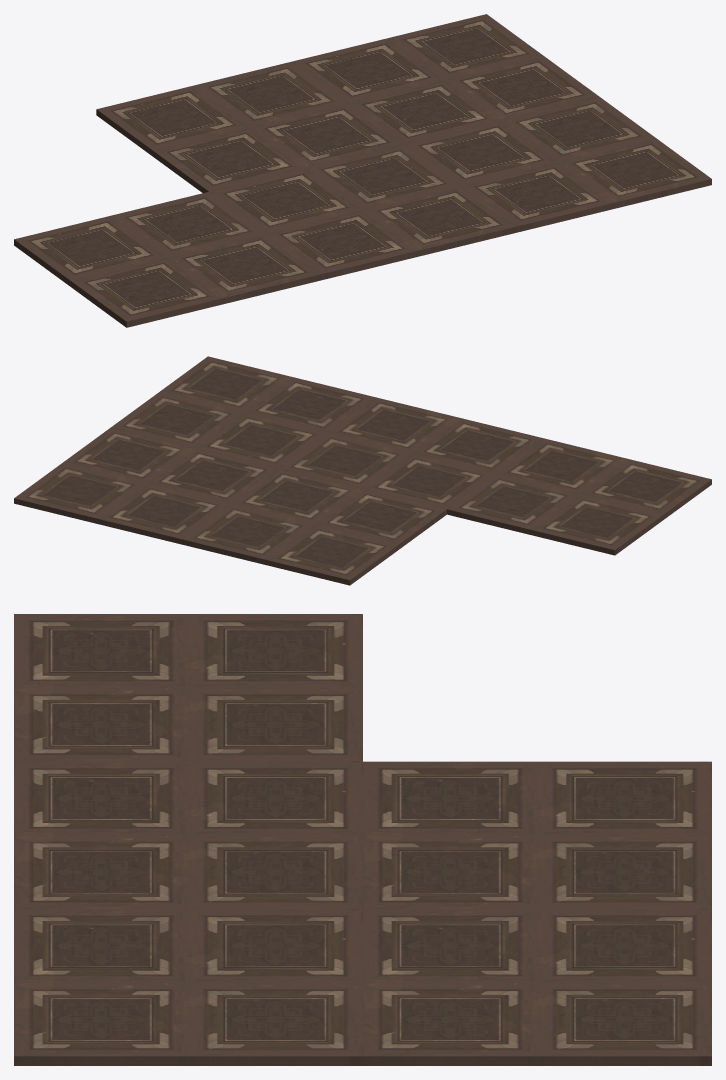
The model's file is Homeworld_Interior_Ly_Room_G_Ceiling_01_Vo.fbx.
The picture shows the model from 3 angles, top to bottom: view 1: azimuth 30°, elevation 25°; view 2: azimuth 150°, elevation 25°; view 3: azimuth 270°, elevation 25°; orthographic projection. The views are drawn at different scales.
Visible parts, largest first — view 1: Homeworld_Interior_Ly_Room_G_Ceiling_01_Vo; view 2: Homeworld_Interior_Ly_Room_G_Ceiling_01_Vo; view 3: Homeworld_Interior_Ly_Room_G_Ceiling_01_Vo.
Part boxes in pixels (box(x1,y1,x2,y2)): Homeworld_Interior_Ly_Room_G_Ceiling_01_Vo: box(14, 14, 711, 327); Homeworld_Interior_Ly_Room_G_Ceiling_01_Vo: box(14, 356, 711, 585); Homeworld_Interior_Ly_Room_G_Ceiling_01_Vo: box(14, 614, 711, 1065).
Size of the model in its own units: 15 by 0.15 by 10.
